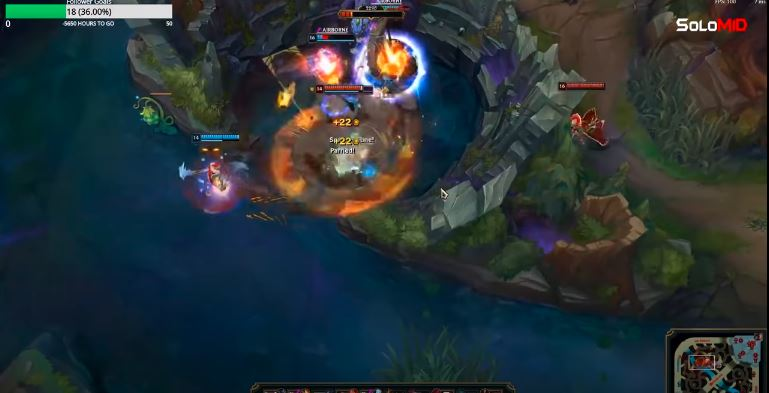bar: (555, 79, 609, 93), (305, 30, 362, 43), (323, 83, 374, 96), (188, 131, 242, 143), (312, 82, 365, 92)
